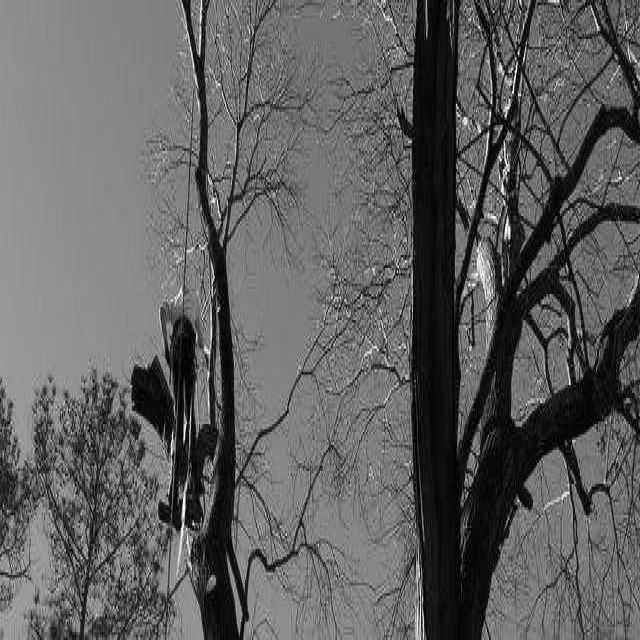Tree: (411, 0, 640, 637), (168, 0, 302, 639)
